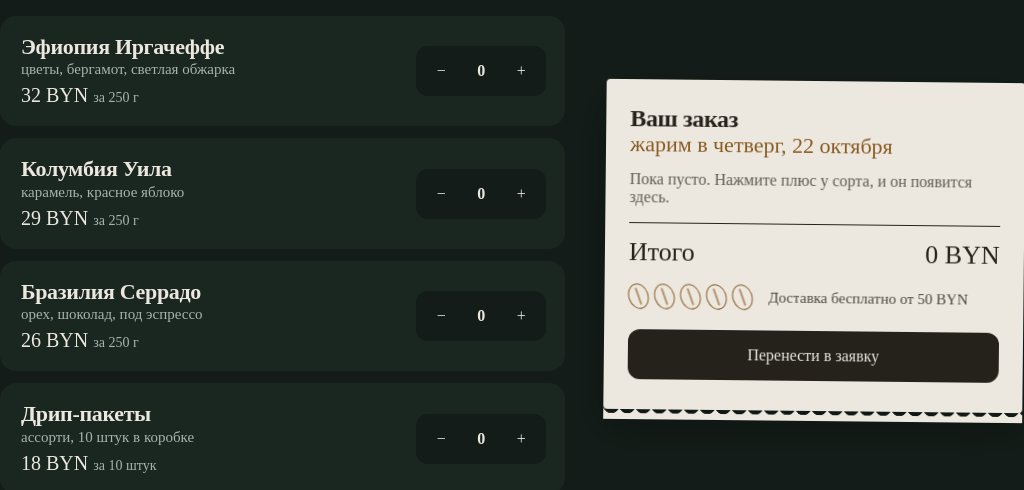
Scenario: BuildOrder › собирает позиции в чек по ценам каталога
This screenshot has width=1024, height=490.
Click the button named "Добавить Колумбия Уила".
click(521, 194)  # box [499, 172, 543, 216]
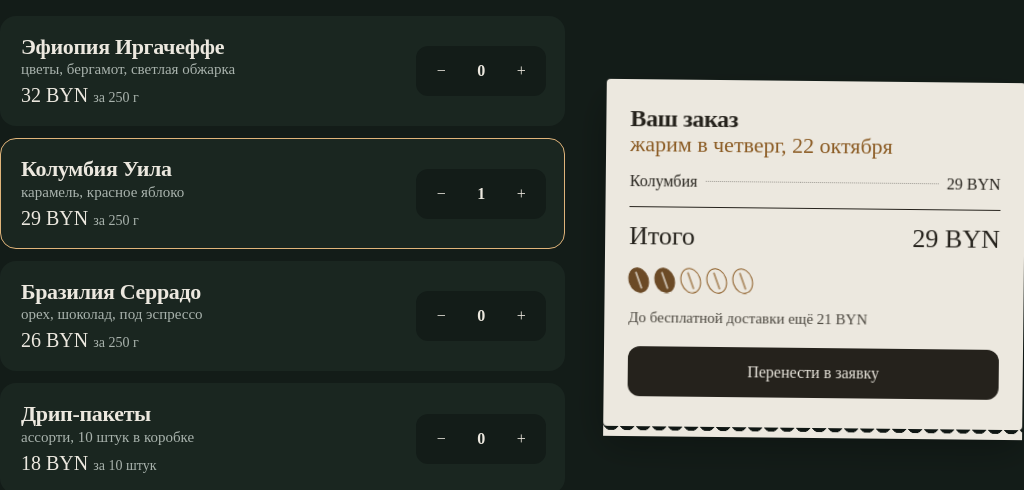
Expected: the text "До бесплатной доставки ещё 21 BYN" is shown, [628, 309, 868, 329]
Click the button named "Добавить Эфиопия Иргачеффе".
click(521, 71)  # box [499, 49, 543, 93]
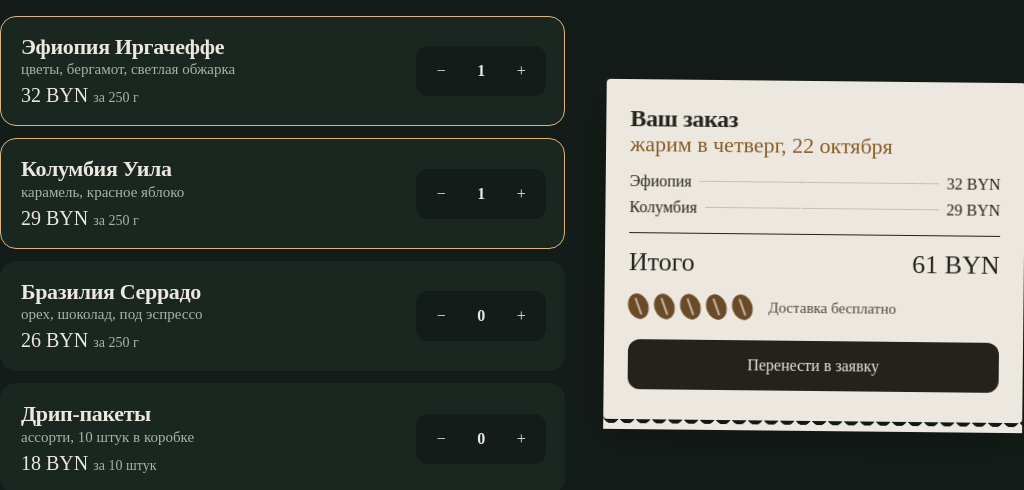
Click the button named "Добавить Эфиопия Иргачеффе".
click(521, 71)  # box [499, 49, 543, 93]
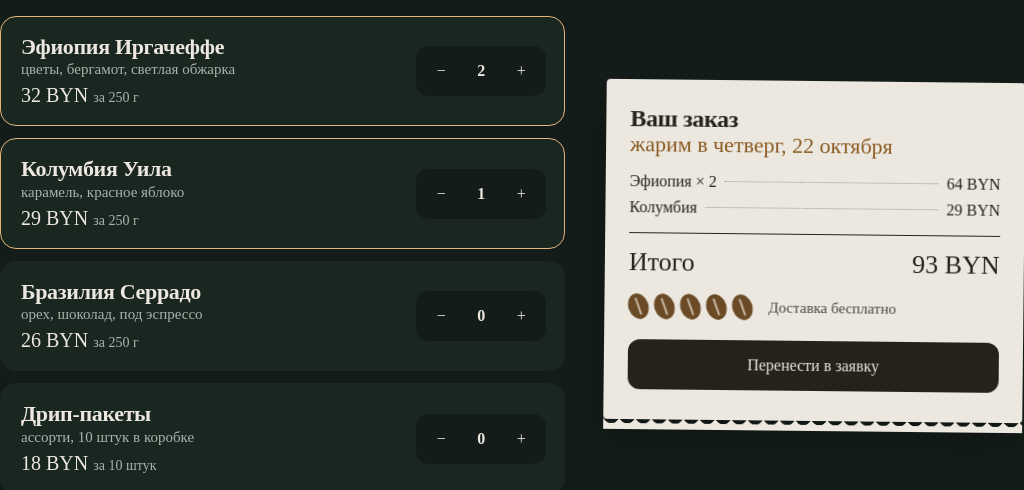
Expected: the text "Доставка бесплатно" is shown, [769, 299, 896, 317]
Expected: the list items read "Эфиопия × 264 BYN", "Колумбия29 BYN", in this order, [630, 172, 1001, 194]; [630, 198, 1000, 220]
Expected: the text "93 BYN" is shown, [912, 250, 1000, 281]
